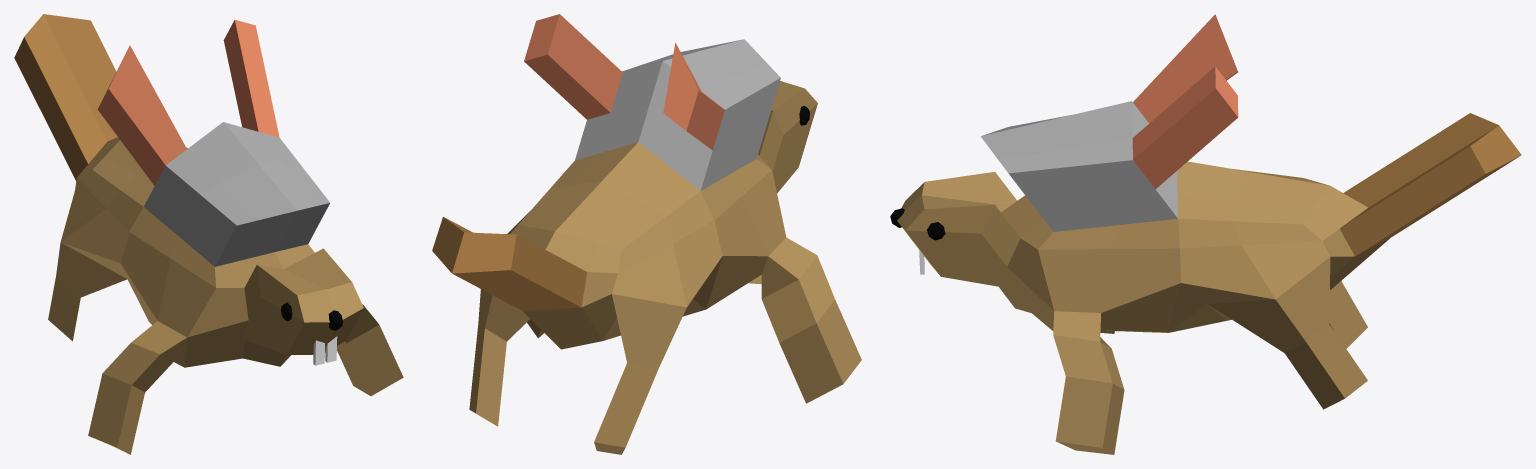
The model's file is bober.glb.
The picture shows the model from 3 angles, left to right: view 1: azimuth 30°, elevation 25°; view 2: azimuth 150°, elevation 25°; view 3: azimuth 270°, elevation 25°; orthographic projection. The views are drawn at different scales.
Parts seen in each view (by area): view 1: Cube.054; view 2: Cube.054; view 3: Cube.054.
Boxes of the visible parts, x1,y1,x2,y2 form: Cube.054: [14, 14, 403, 454]; Cube.054: [432, 14, 861, 454]; Cube.054: [890, 14, 1521, 454].
Size of the model in its own units: 0.419 by 0.4649 by 0.751.
